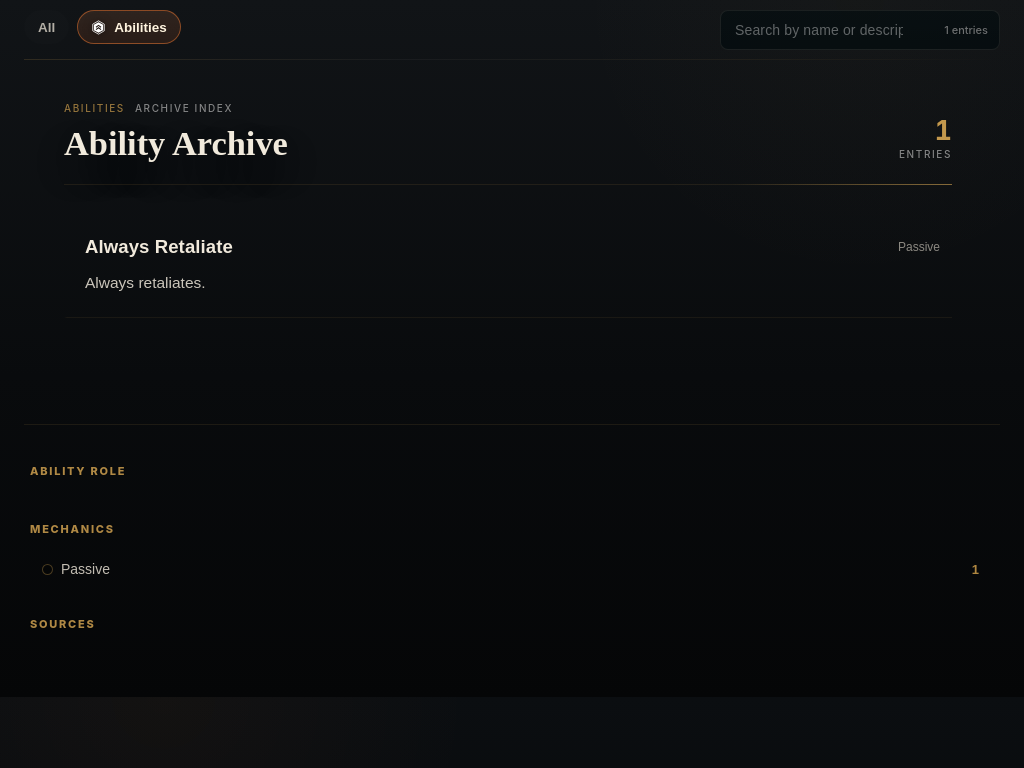
CodexPage ability archive › renders a quiet Ability Archive no-results state for empty search matches
The width and height of the screenshot is (1024, 768).
Expected: the heading "Ability Archive" is shown, [64,126,288,160]
Type "no ability should match this" into the dropdown named "search the encyclopedia". click: (860,30)
box: [720,10,1000,50]
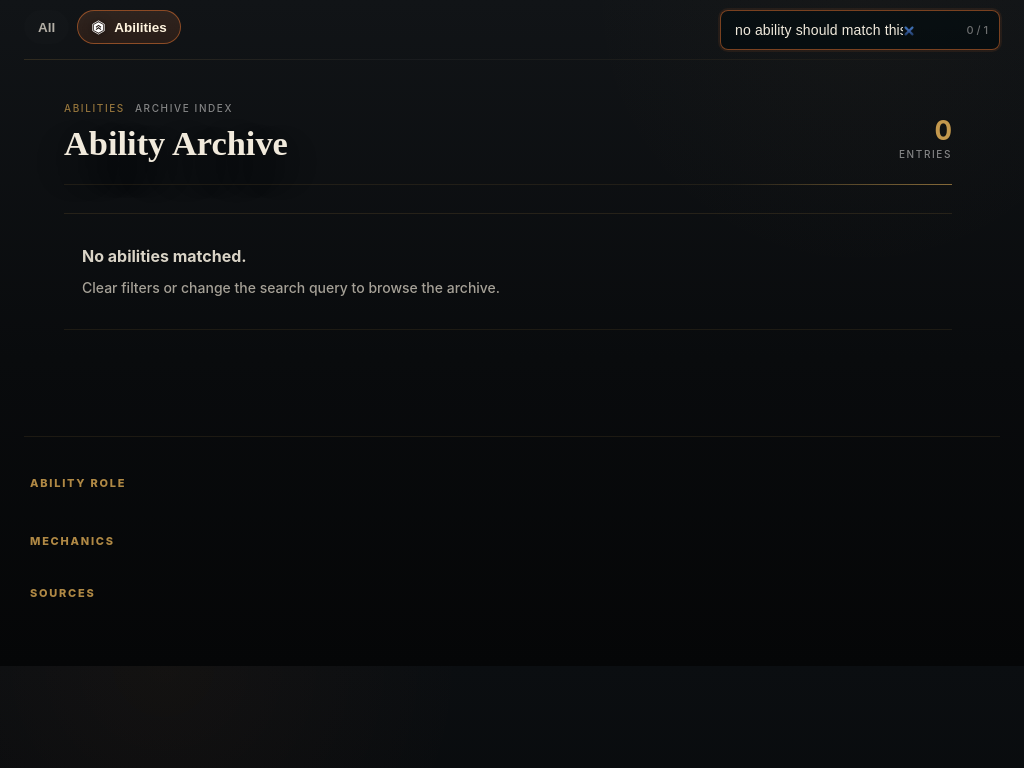
Expected: the text "No abilities matched." is shown, [82,246,247,266]
Expected: the text "Clear filters or change the search query to browse the archive." is shown, [82,279,500,296]
Expected: the button "Always Retaliate" is gone
